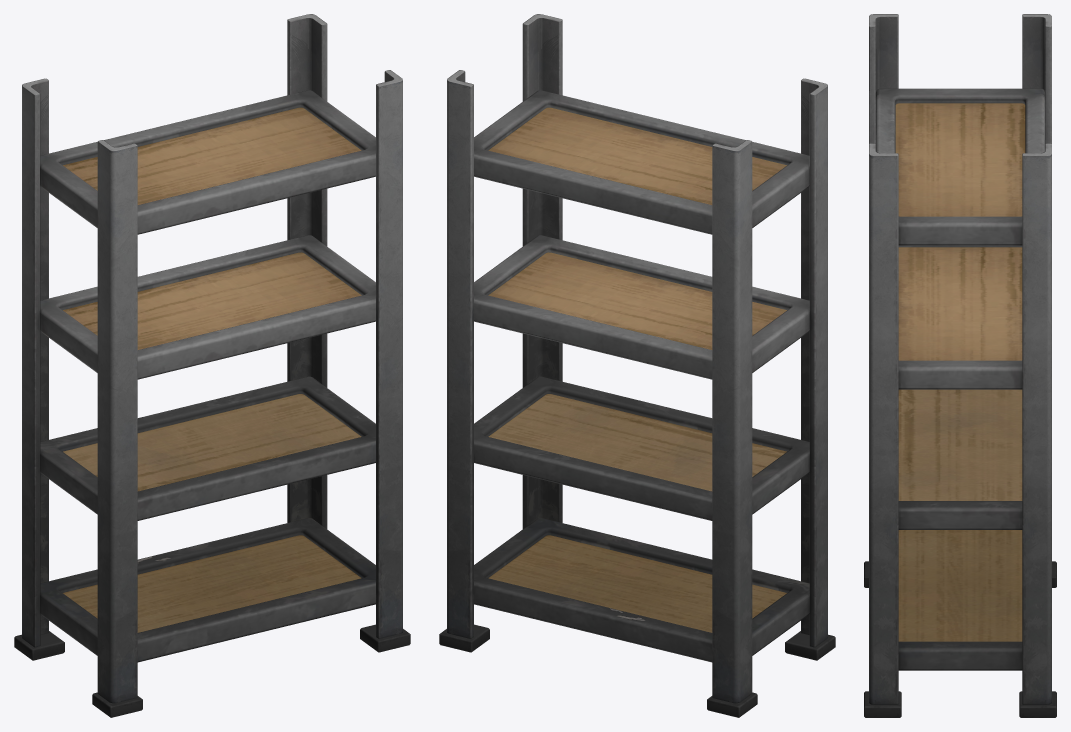
The model's file is MetalShelf3.fbx.
3 renders of one model, left to right at view 1: azimuth 30°, elevation 25°; view 2: azimuth 150°, elevation 25°; view 3: azimuth 270°, elevation 25°, orthographic.
Visible parts, largest first — view 1: Sm_MetalShelf_03; view 2: Sm_MetalShelf_03; view 3: Sm_MetalShelf_03.
Part boxes in pixels (box(x1,y1,x2,y2)): Sm_MetalShelf_03: box(14, 14, 410, 717); Sm_MetalShelf_03: box(439, 14, 835, 717); Sm_MetalShelf_03: box(864, 14, 1056, 717).
Size of the model in its own units: 74.73 by 134 by 41.72.
Materials: 1 (1 with a texture image).
